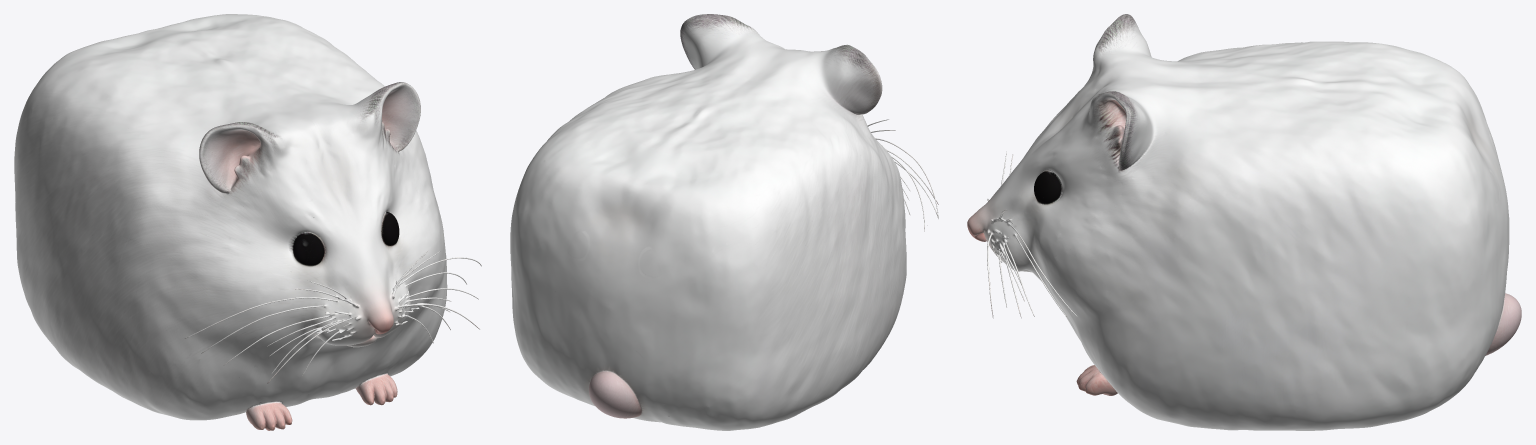
The model's file is pearl_ham.glb.
3 views of the same model, side by side, from view 1: azimuth 30°, elevation 25°; view 2: azimuth 150°, elevation 25°; view 3: azimuth 270°, elevation 25° (orthographic). The views are drawn at different scales.
Visible parts, largest first — view 1: Mesh_0; view 2: Mesh_0; view 3: Mesh_0.
Part boxes in pixels (box(x1,y1,x2,y2)): Mesh_0: box(14, 14, 481, 430); Mesh_0: box(510, 14, 938, 430); Mesh_0: box(967, 14, 1521, 430).
Bounding box in the file's own units: 0.113 × 0.1 × 0.16.
Materials: 1 (1 with a texture image).
